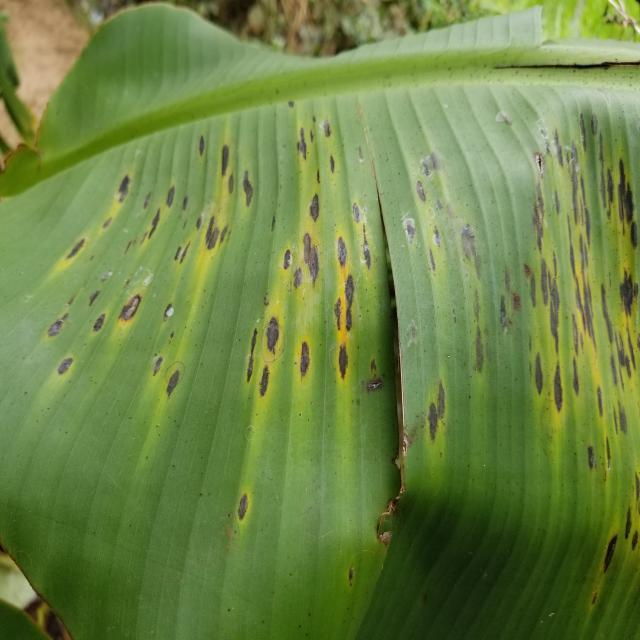Early_rust: (7, 20, 640, 635)
